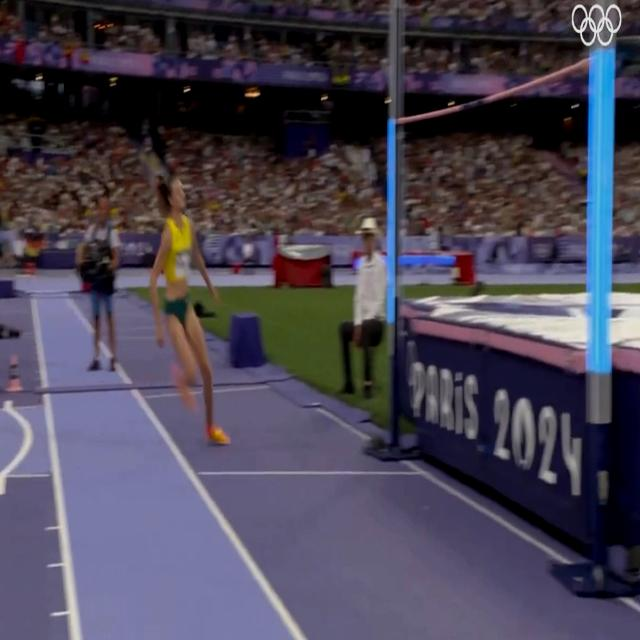run: (152, 172, 230, 448)
